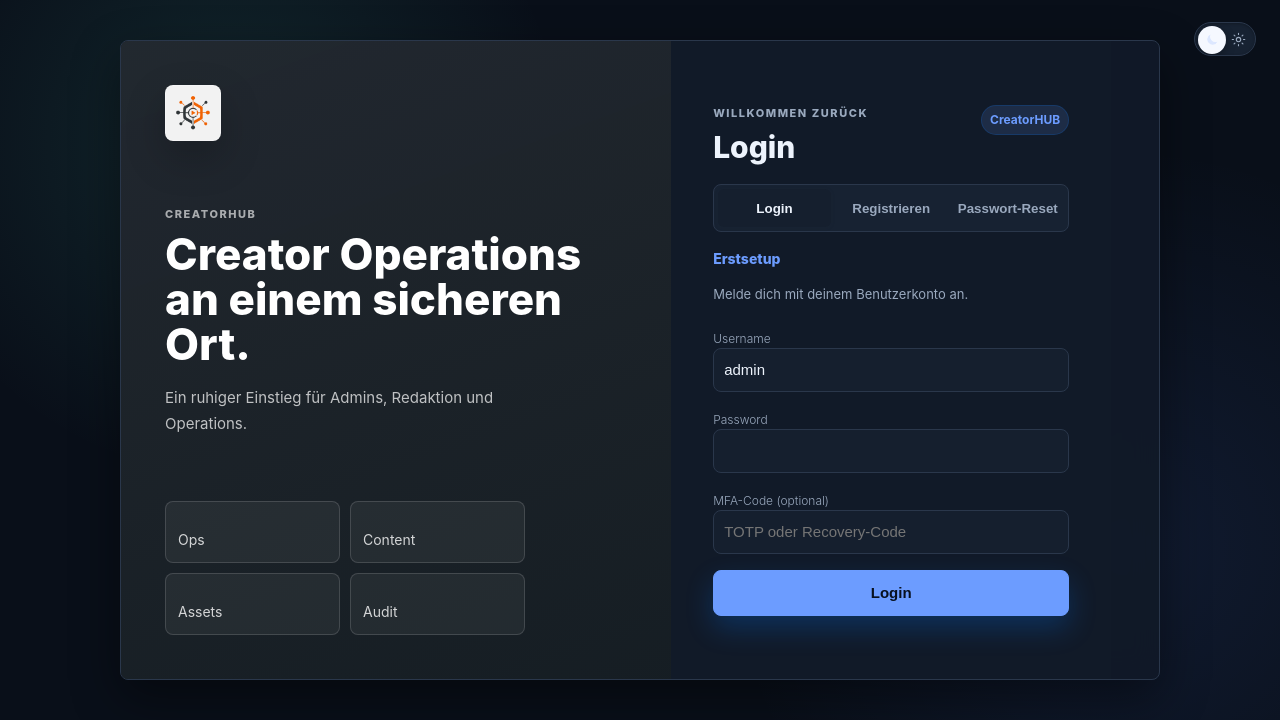
Test: LoginPageView › reveals password text only after using the eye toggle
Type "secret123" into the password field labelled "Password". click: {"x": 891, "y": 450}
box: [713,428,1069,472]
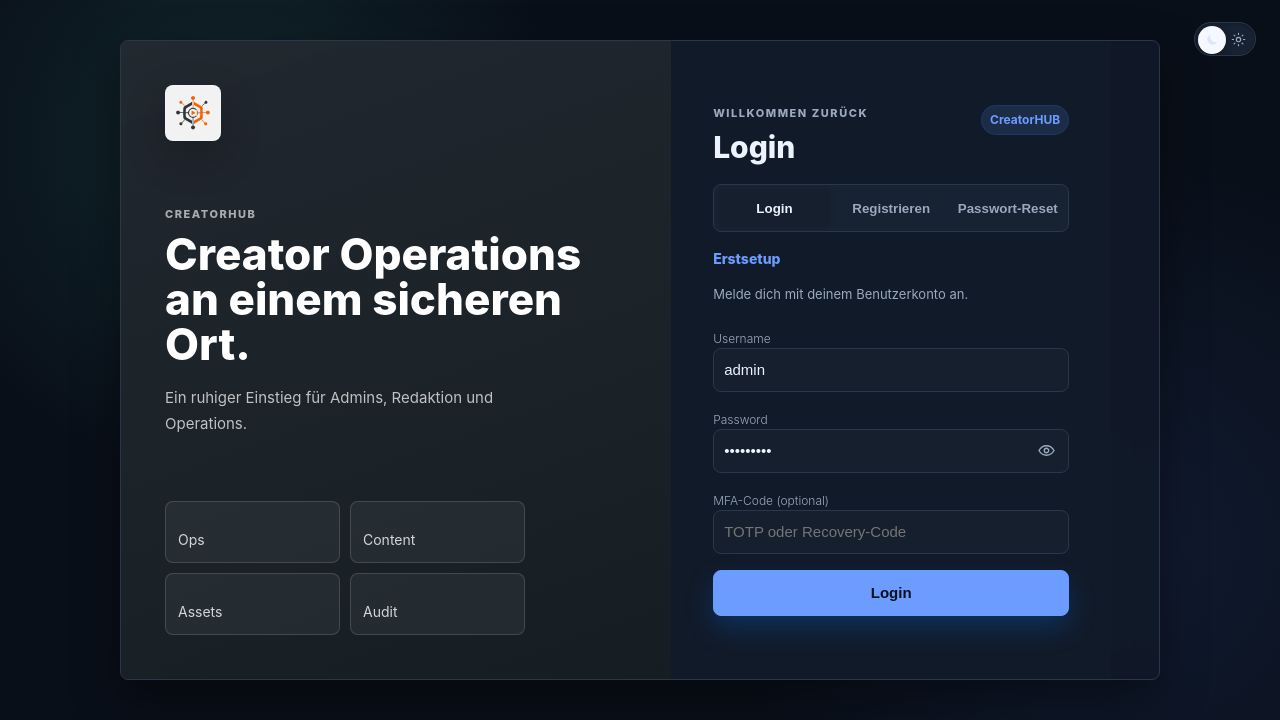
Click the button named "Passwort anzeigen". click: {"x": 1046, "y": 450}
box: [1028,432,1064,468]
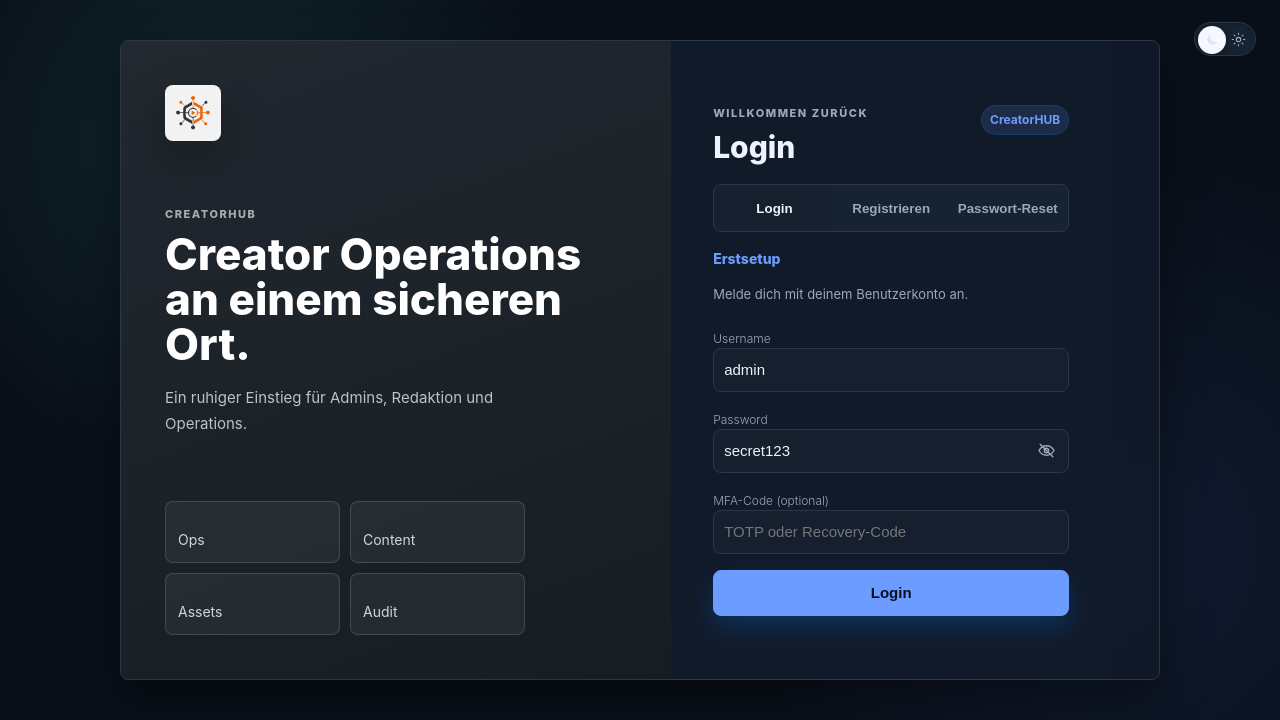
Check: the button named "Passwort verbergen" is shown, box [1028,432,1064,468]
